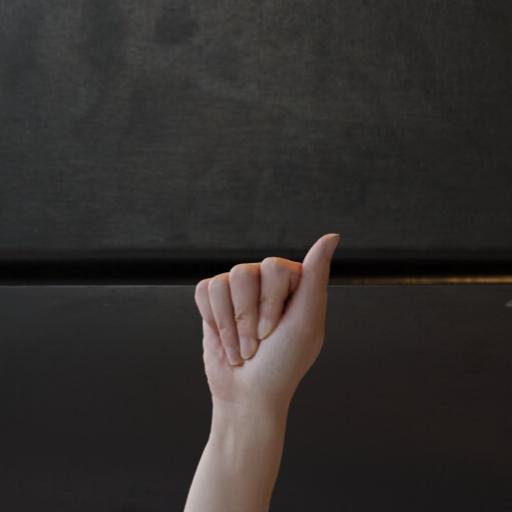A: (170, 226, 356, 490)
